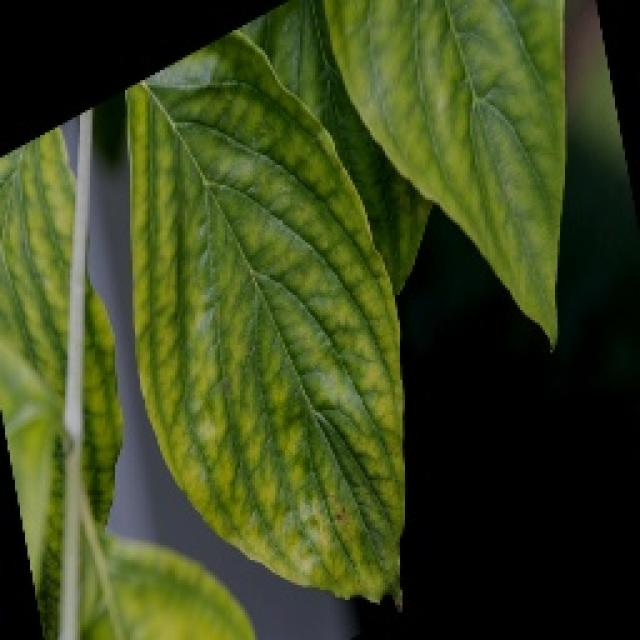Chlorosis: (36, 77, 533, 612)
